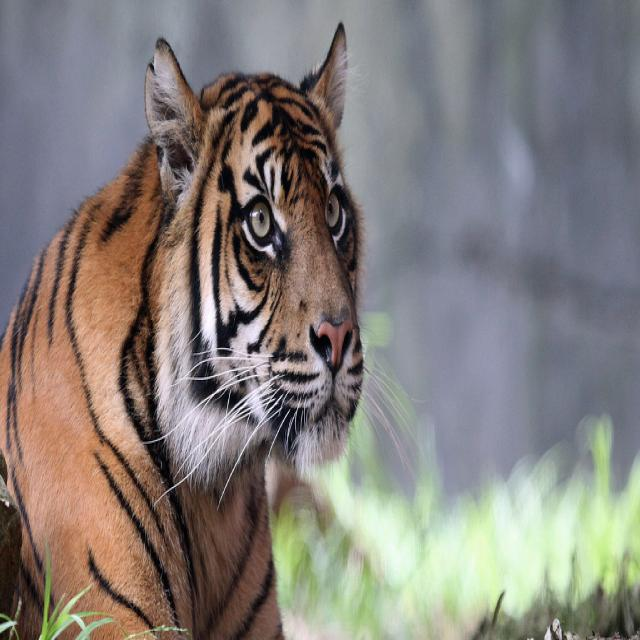Tiger: (0, 8, 364, 640)
